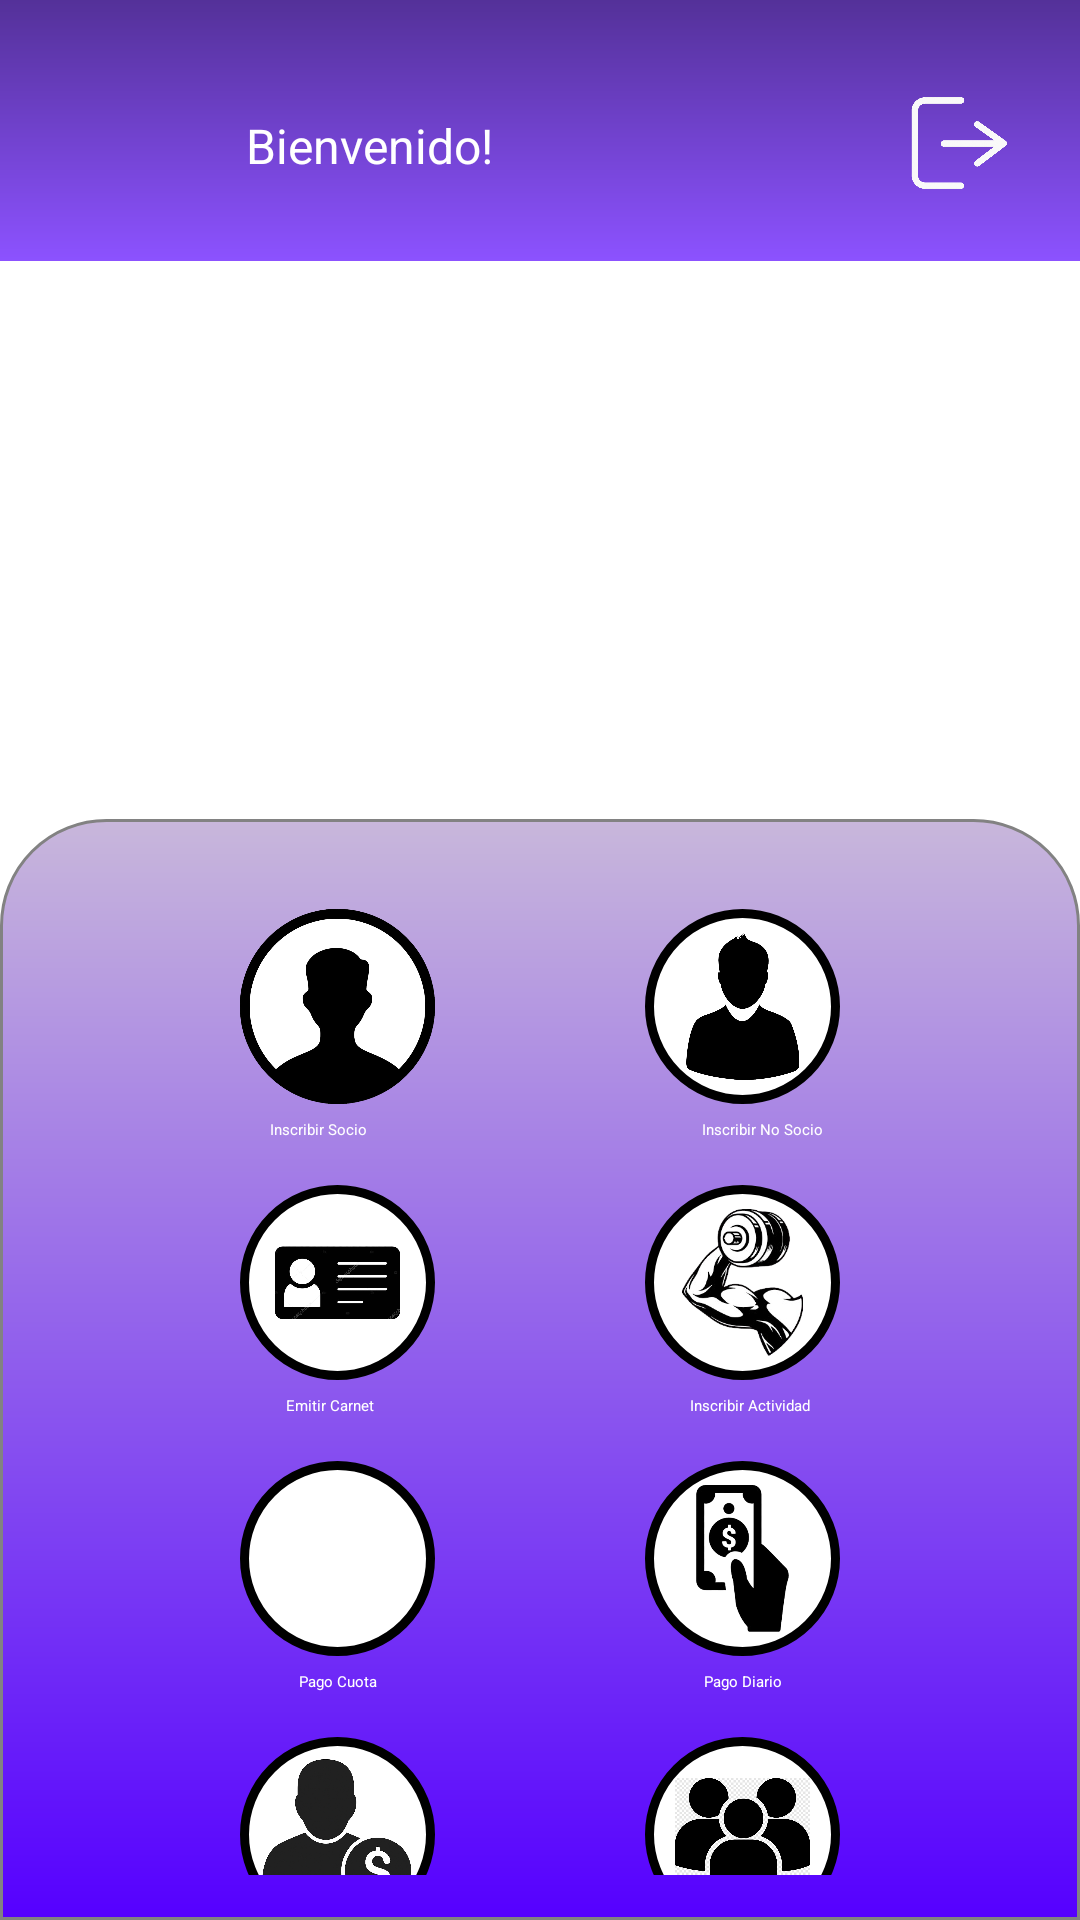

Icon click points for this 1080px×1920px phone screenshot, format [x,y]:
salir: [957,145]
